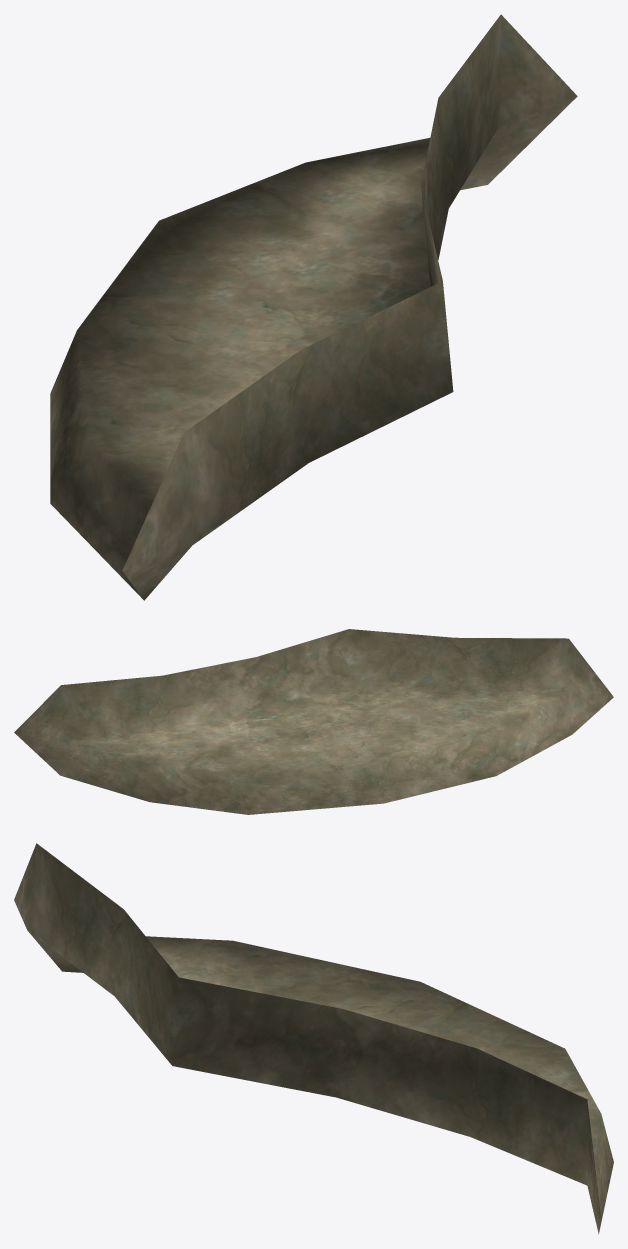
The model's file is EKH_THRONE_PS_TH_OBJECT16.fbx.
3 renders of one model, top to bottom at view 1: azimuth 30°, elevation 25°; view 2: azimuth 150°, elevation 25°; view 3: azimuth 270°, elevation 25°, orthographic. The views are drawn at different scales.
Visible parts, largest first — view 1: EKH_THRONE_PS_TH_OBJECT16; view 2: EKH_THRONE_PS_TH_OBJECT16; view 3: EKH_THRONE_PS_TH_OBJECT16.
Boxes of the visible parts, x1,y1,x2,y2 form: EKH_THRONE_PS_TH_OBJECT16: [50, 14, 577, 600]; EKH_THRONE_PS_TH_OBJECT16: [14, 629, 613, 814]; EKH_THRONE_PS_TH_OBJECT16: [14, 843, 613, 1234].
Size of the model in its own units: 35351 by 7123 by 28142.
1 material, 1 textured.
